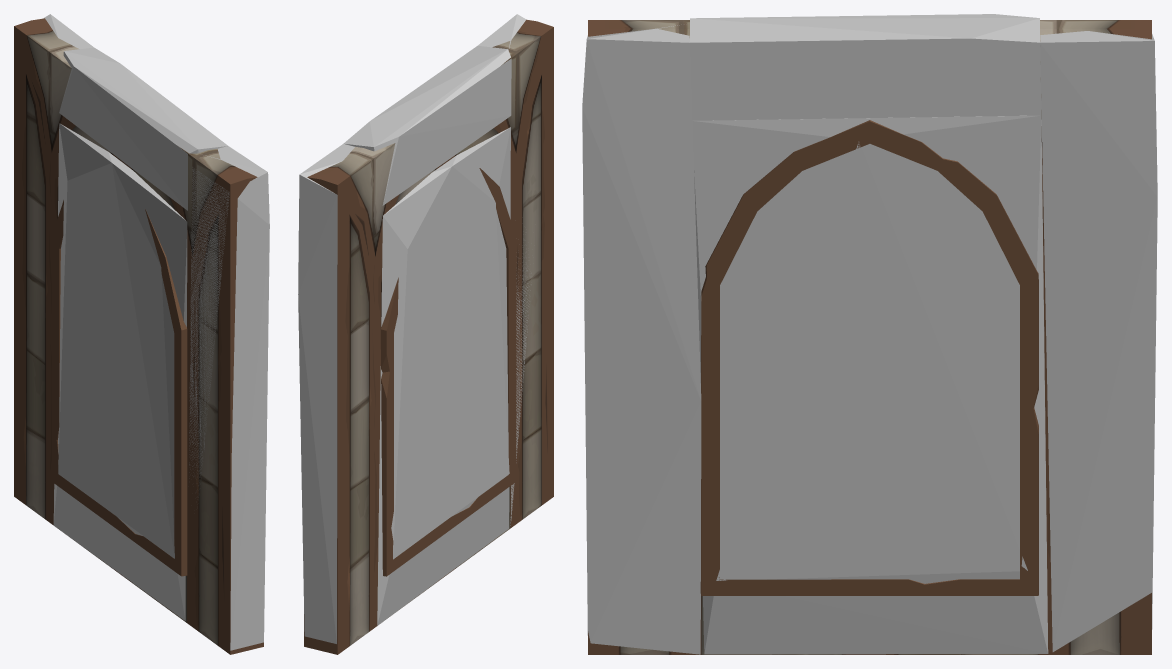
File: SM_Bld_Wall_Window_02.fbx
3 views of the same model, side by side, from view 1: azimuth 30°, elevation 25°; view 2: azimuth 150°, elevation 25°; view 3: azimuth 270°, elevation 25° (orthographic). The views are drawn at different scales.
Parts seen in each view (by area): view 1: SM_Bld_Wall_Window_02_ConvexHulls, SM_Bld_Wall_Window_02; view 2: SM_Bld_Wall_Window_02_ConvexHulls, SM_Bld_Wall_Window_02; view 3: SM_Bld_Wall_Window_02_ConvexHulls, SM_Bld_Wall_Window_02.
Part boxes in pixels (<box>): SM_Bld_Wall_Window_02_ConvexHulls: <box>43,14,269,650</box>; SM_Bld_Wall_Window_02: <box>14,18,263,654</box>; SM_Bld_Wall_Window_02_ConvexHulls: <box>298,14,531,643</box>; SM_Bld_Wall_Window_02: <box>304,19,553,654</box>; SM_Bld_Wall_Window_02_ConvexHulls: <box>582,14,1157,654</box>; SM_Bld_Wall_Window_02: <box>588,20,1151,654</box>.
Bounding box in the file's own units: 31.79 × 255 × 303.
3 materials, 2 textured.
